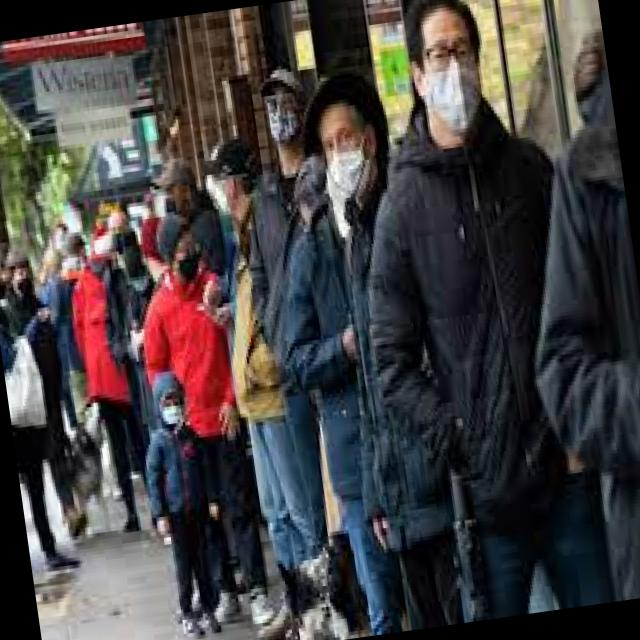Jacket: (351, 98, 608, 537), (497, 103, 640, 557), (264, 170, 412, 504), (210, 200, 330, 456), (130, 256, 244, 470), (58, 243, 146, 419)
